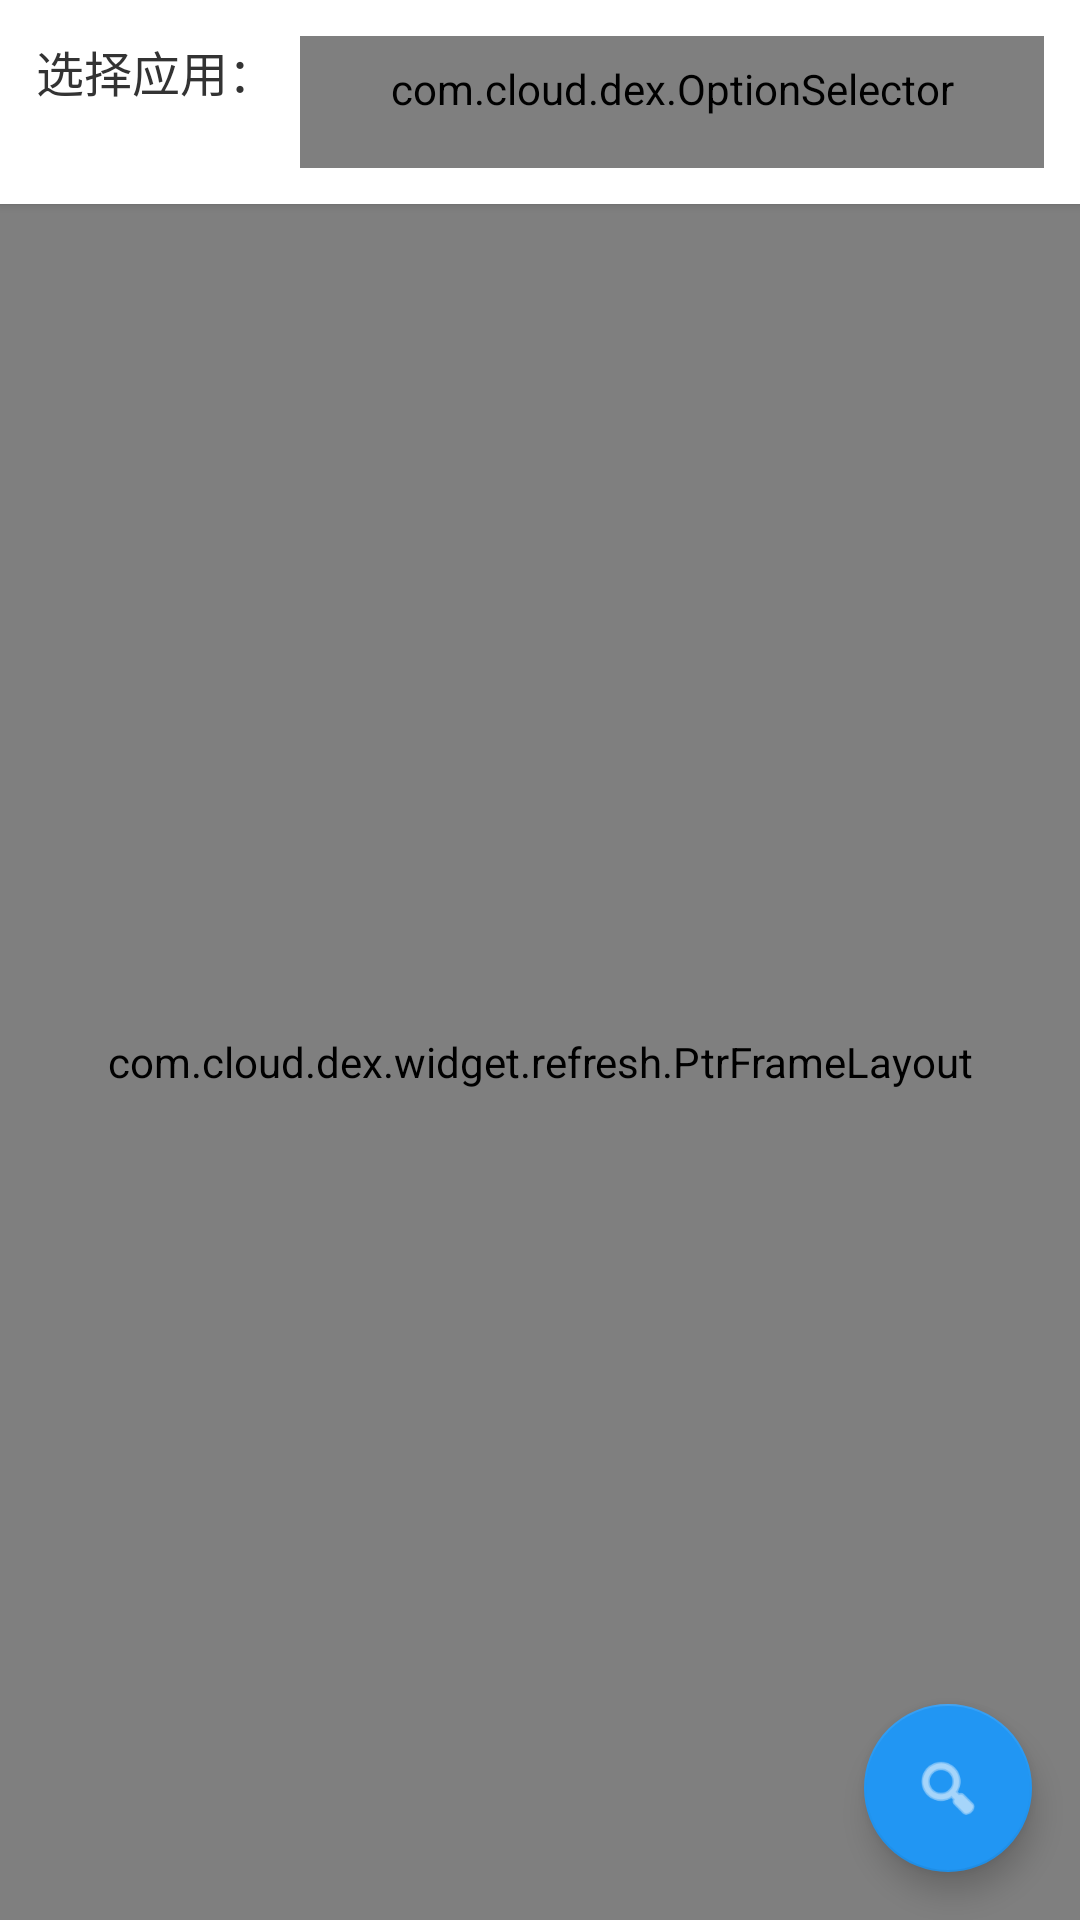

Named icons in this screenshot (1080x1920) and their centers, (x,y):
search: (948,1788)
